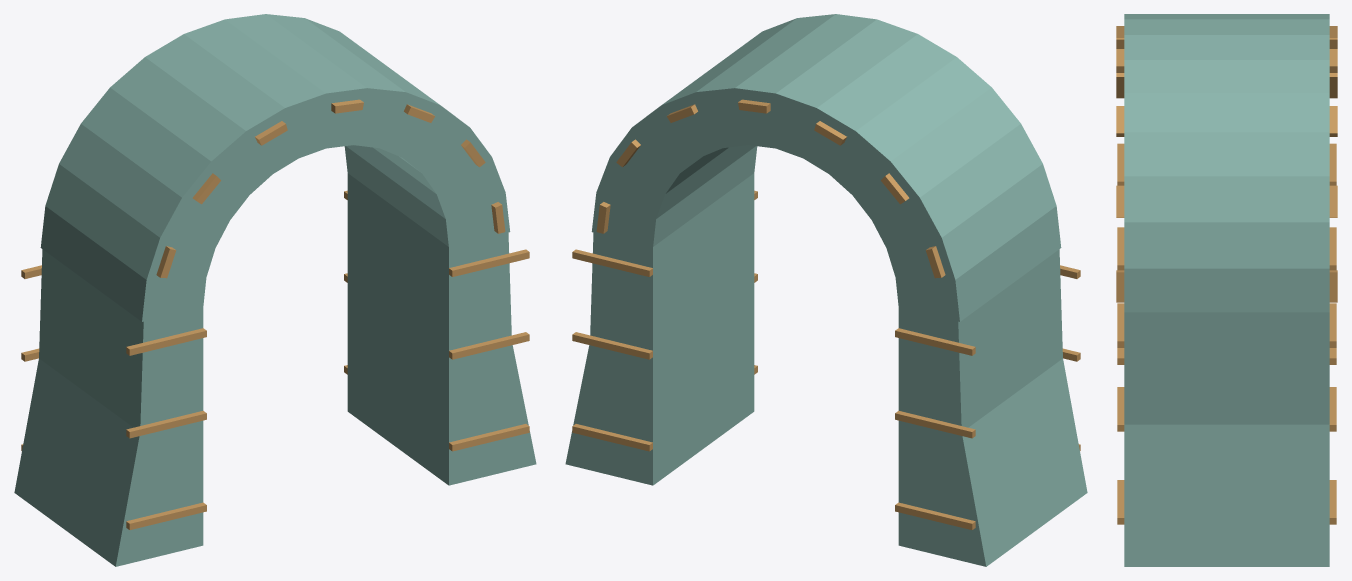
The model's file is celadon-court.glb.
The picture shows the model from 3 angles, left to right: view 1: azimuth 30°, elevation 25°; view 2: azimuth 150°, elevation 25°; view 3: azimuth 270°, elevation 25°; orthographic projection.
Visible parts, largest first — view 1: Celadon stone, Brass fascia; view 2: Celadon stone, Brass fascia; view 3: Celadon stone, Brass fascia.
Part boxes in pixels (left/top/right/bottom): Celadon stone: left=14, top=14, right=536, bottom=566; Brass fascia: left=21, top=99, right=529, bottom=529; Celadon stone: left=565, top=14, right=1087, bottom=566; Brass fascia: left=572, top=99, right=1080, bottom=529; Celadon stone: left=1124, top=14, right=1329, bottom=566; Brass fascia: left=1116, top=26, right=1337, bottom=524.
Size of the model in its own units: 24 by 23 by 10.8.
